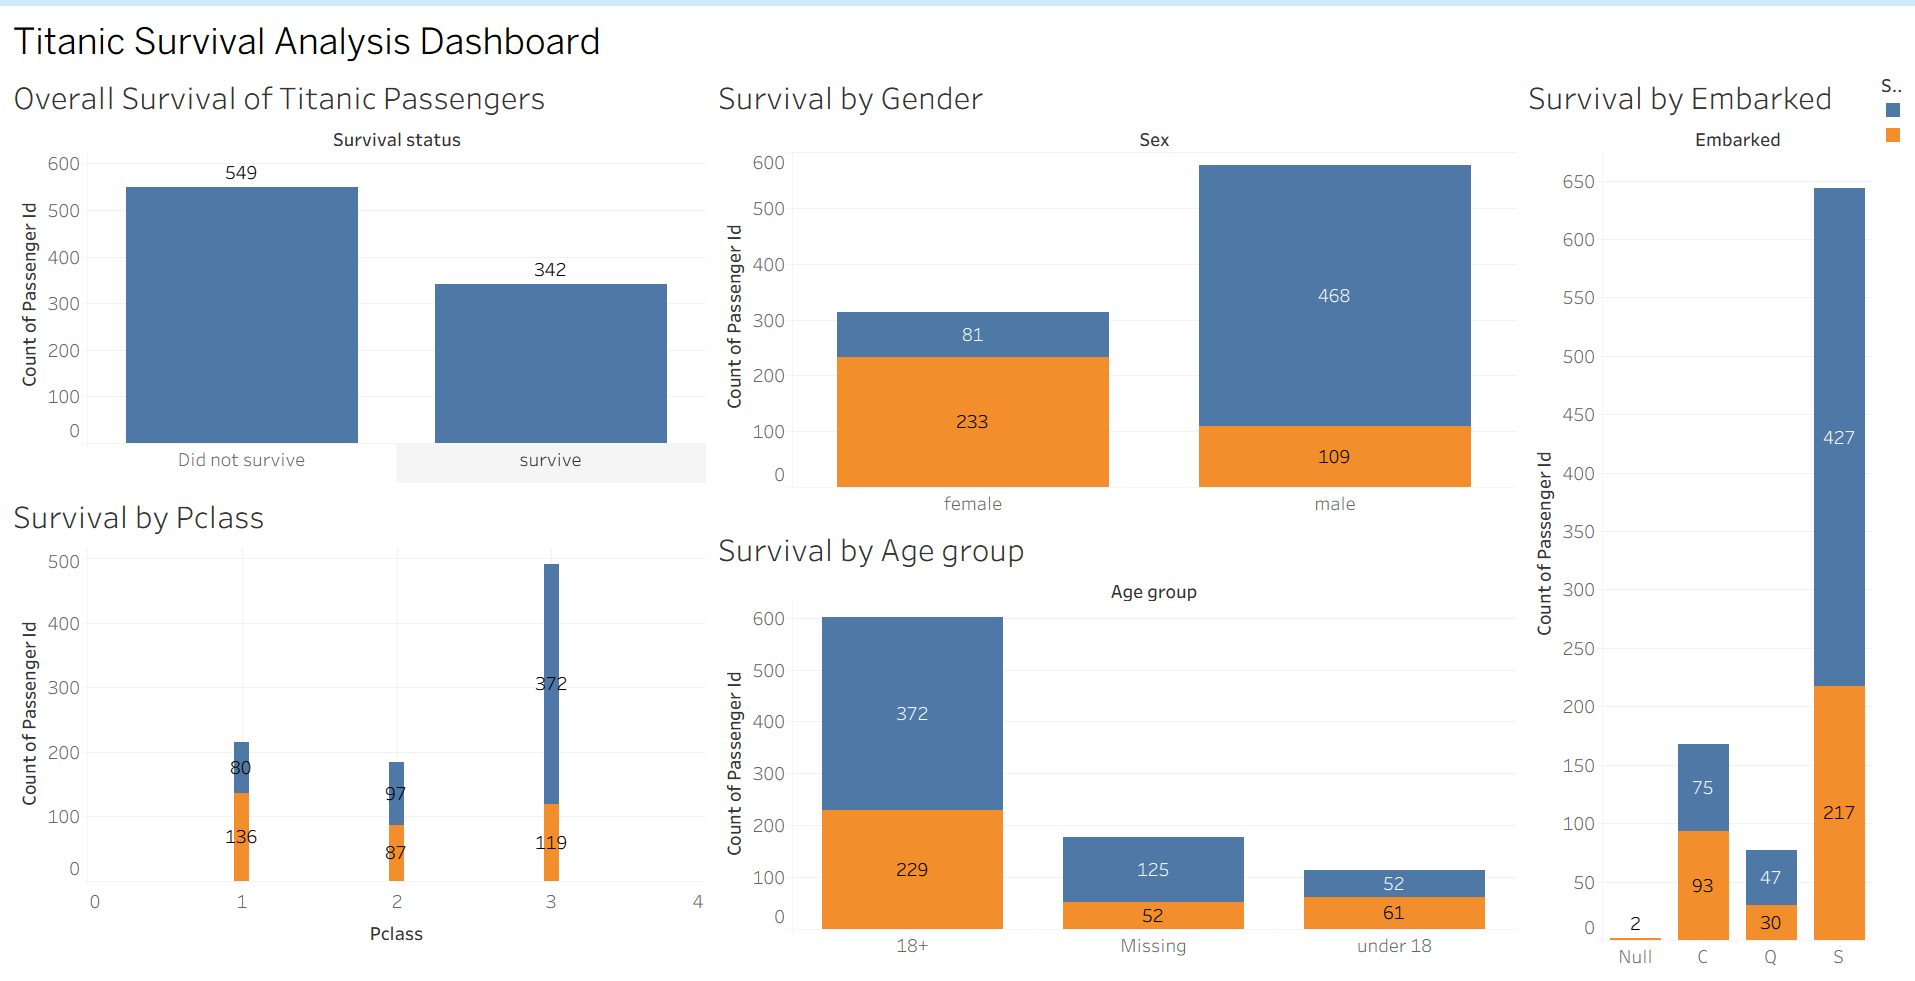

Layout of this report page (visuals, bound fields, positions):
{"tool":"tableau","page":{"name":"Titanic Survival Dashboard","canvas":[1000,1000],"units":"permille","ordinal":0},"visuals":[{"type":"title","box":[5,10,989.9,67.5]},{"type":"worksheet","title":"Overall Survival of Titanic Passengers","mark":"Bar","rows":["PassengerId"],"cols":["Calculation_1649443416107696128"],"box":[5,77.5,346.6,422.5]},{"type":"worksheet","title":"Survival by Gender","mark":"Bar","rows":["PassengerId"],"cols":["Sex"],"box":[351.6,77.5,398.4,456.2]},{"type":"worksheet","title":"Survival by Embarked","mark":"Automatic","rows":["PassengerId"],"cols":["Embarked"],"box":[750,77.5,156.8,912.5]},{"type":"image","box":[906.8,77.5,68,912.5]},{"type":"legend","title":"Survival by Pclass","param":"[federated.179kj7x1cto9fv1asiu580hdek9w].[none:Calculation_1649443416107696128:n","box":[974.8,77.5,20.2,105]},{"type":"worksheet","title":"Survival by Pclass","mark":"Bar","rows":["PassengerId"],"cols":["Pclass"],"box":[5,500,346.6,490]},{"type":"worksheet","title":"Survival by Age group","mark":"Automatic","rows":["PassengerId"],"cols":["Calculation_1649443416117608449"],"box":[351.6,533.7,398.4,456.3]}]}

Visuals, with their boxes on the dashboard's canvas, which has no fixed pixel size, in thousandths of its width and height (x1, y1, x2, y2). These are canvas units, not pixel positions in the 1915x981 screenshot, which may show the page scaled, cropped or inside an application window:
title: x1=5 y1=10 x2=995 y2=78
"Overall Survival of Titanic Passengers" worksheet (Bar marks): x1=5 y1=78 x2=352 y2=500
"Survival by Gender" worksheet (Bar marks): x1=352 y1=78 x2=750 y2=534
"Survival by Embarked" worksheet: x1=750 y1=78 x2=907 y2=990
image: x1=907 y1=78 x2=975 y2=990
"Survival by Pclass" legend: x1=975 y1=78 x2=995 y2=182
"Survival by Pclass" worksheet (Bar marks): x1=5 y1=500 x2=352 y2=990
"Survival by Age group" worksheet: x1=352 y1=534 x2=750 y2=990
